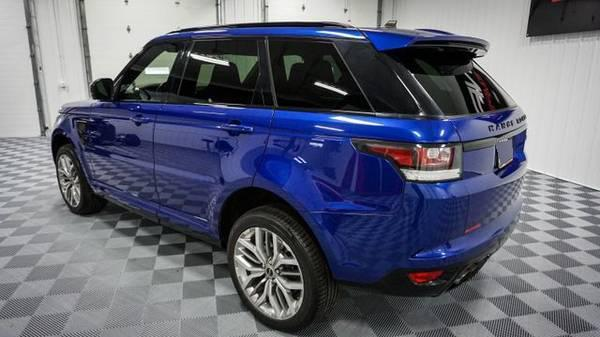Front_Fender: (50, 104, 93, 178)
Front_Left_Door: (84, 101, 163, 219)
Front_Left_Window: (98, 39, 194, 105)
Left_Taillight: (356, 140, 465, 181)
Rear_Bumper: (305, 182, 528, 293)
Rear_Fender: (259, 38, 463, 214)
Rear_Left_Door: (158, 104, 278, 247)
Rear_Left_Window: (171, 38, 282, 107)
Rear_Windshield: (395, 43, 522, 114)
Roof: (147, 24, 487, 116)
Tailgate: (453, 106, 526, 234)
Wheel: (226, 202, 333, 333), (53, 145, 103, 213)
